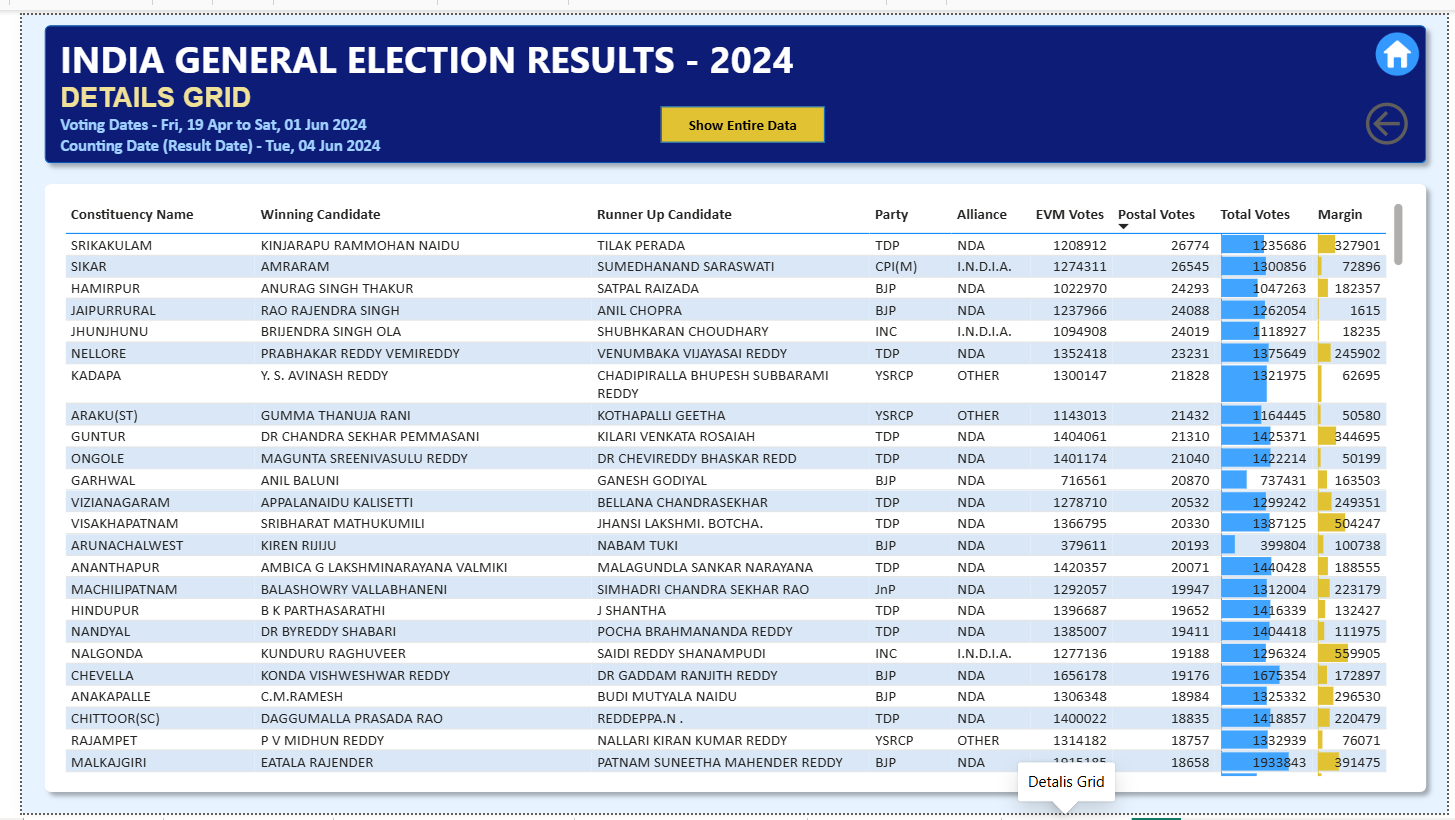

This screenshot's page, from the dashboard's own definition file:
{"tool":"powerbi","page":{"name":"Detalis Grid","canvas":[1250,700],"ordinal":5},"visuals":[{"type":"shape","box":[11,0,1229,139],"z":0},{"type":"textbox","box":[28,12,672,118],"z":1000},{"type":"shape","box":[11,139,1229,551],"z":2000},{"type":"tableEx","fields":{"Values":["constituencywise_results.Constituency Name","constituencywise_results.Winning Candidate","constituencywise_details.Runner Up Candidate","constituencywise_results.Party Short Name","constituencywise_results.Party Alliance (Result)","Sum(constituencywise_details.EVM Votes)","Sum(constituencywise_details.Postal Votes)","Sum(constituencywise_details.Total Votes)","Sum(constituencywise_results.Margin)"]},"box":[32,160,1184,512],"z":3000},{"type":"actionButton","box":[1172,71,48,48],"z":4000},{"type":"shape","box":[560,80,144,32],"z":5000},{"type":"image","box":[1186,14,40,40],"z":6000}]}

Visuals, with their boxes in screenshot pixels (x1, y1, x2, y2), scaled from the page's 1250x700 canvas onto the 1455x820 screenshot:
shape: pyautogui.locateOnScreen(13, 0, 1443, 163)
textbox: pyautogui.locateOnScreen(33, 14, 815, 152)
shape: pyautogui.locateOnScreen(13, 163, 1443, 808)
tableEx - constituencywise_results.Constituency Name x constituencywise_results.Winning Candidate: pyautogui.locateOnScreen(37, 187, 1415, 787)
actionButton: pyautogui.locateOnScreen(1364, 83, 1420, 139)
shape: pyautogui.locateOnScreen(652, 94, 819, 131)
image: pyautogui.locateOnScreen(1381, 16, 1427, 63)
